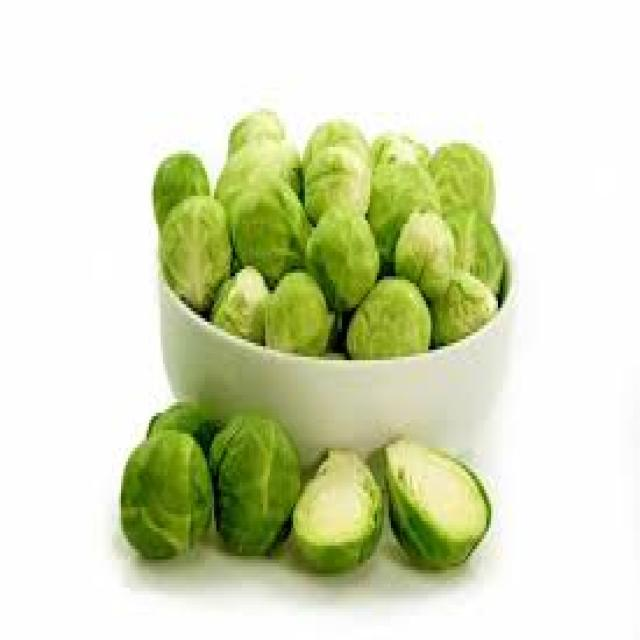choux de bruxelles: (141, 112, 560, 350), (118, 369, 337, 573), (376, 404, 501, 590), (288, 431, 405, 605)
